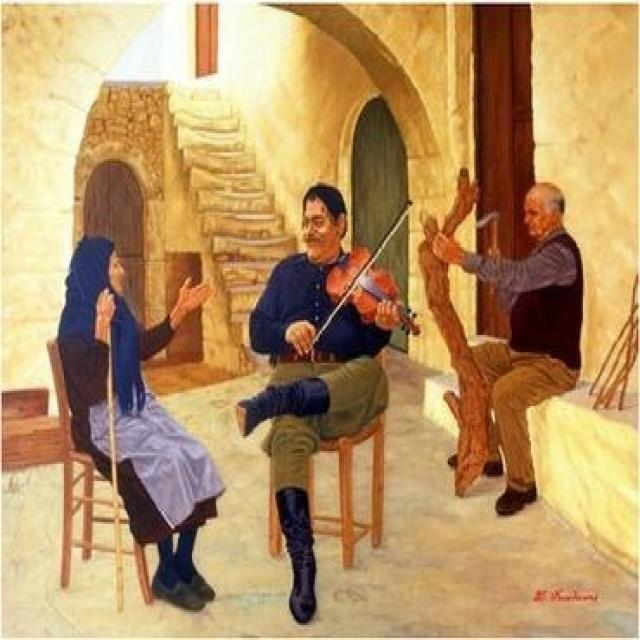violin: (327, 242, 423, 340)
